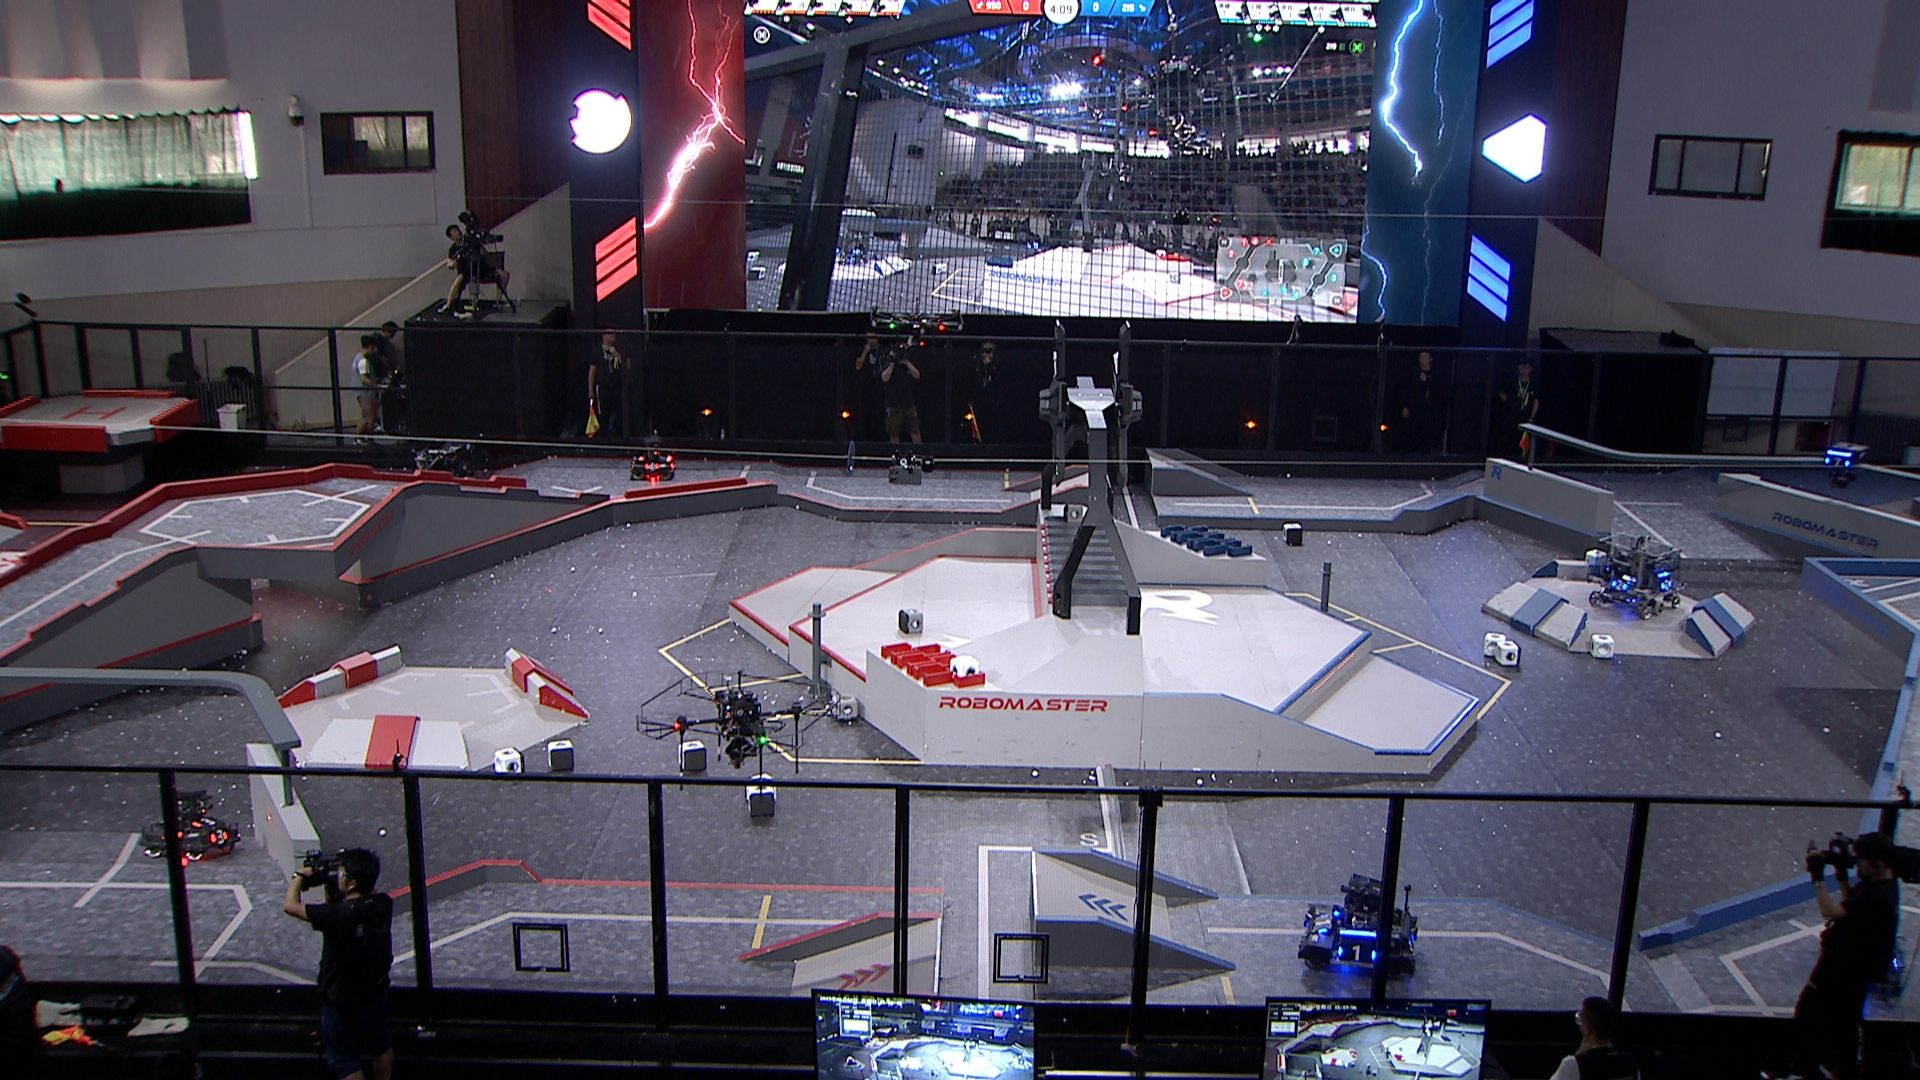armor: (1338, 944, 1378, 964), (1313, 910, 1333, 935), (208, 827, 229, 847), (190, 815, 220, 828), (1825, 456, 1854, 469), (1610, 578, 1629, 593), (642, 460, 662, 473), (1406, 936, 1419, 956), (1660, 579, 1675, 591)
car: (1296, 873, 1420, 981), (1586, 533, 1685, 622), (141, 785, 245, 865), (1815, 910, 1908, 997), (413, 443, 487, 500), (629, 434, 676, 480)
ignore: (841, 240, 872, 268)
watcher: (1822, 440, 1869, 489)
